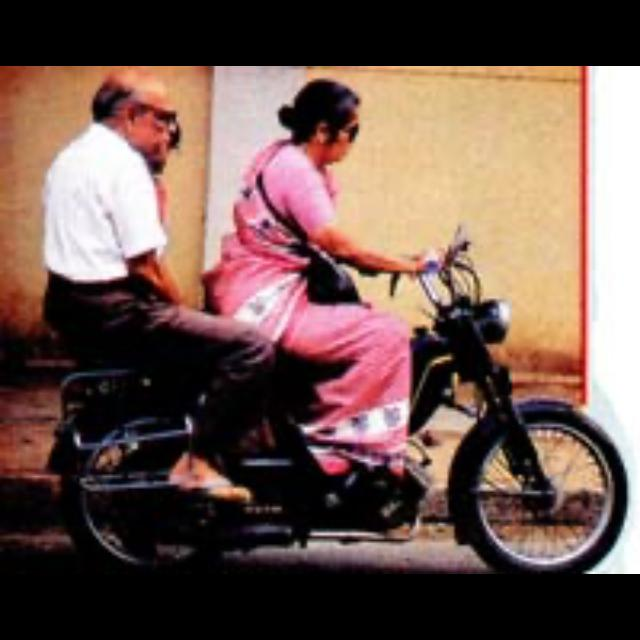Without Helmet: (84, 66, 176, 156), (272, 79, 362, 169)
